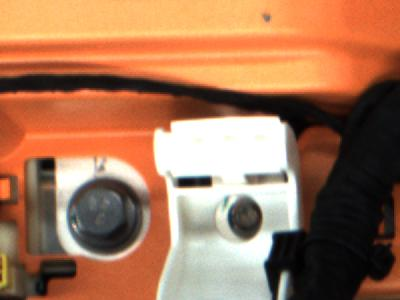nut_b: (48, 169, 151, 255)
